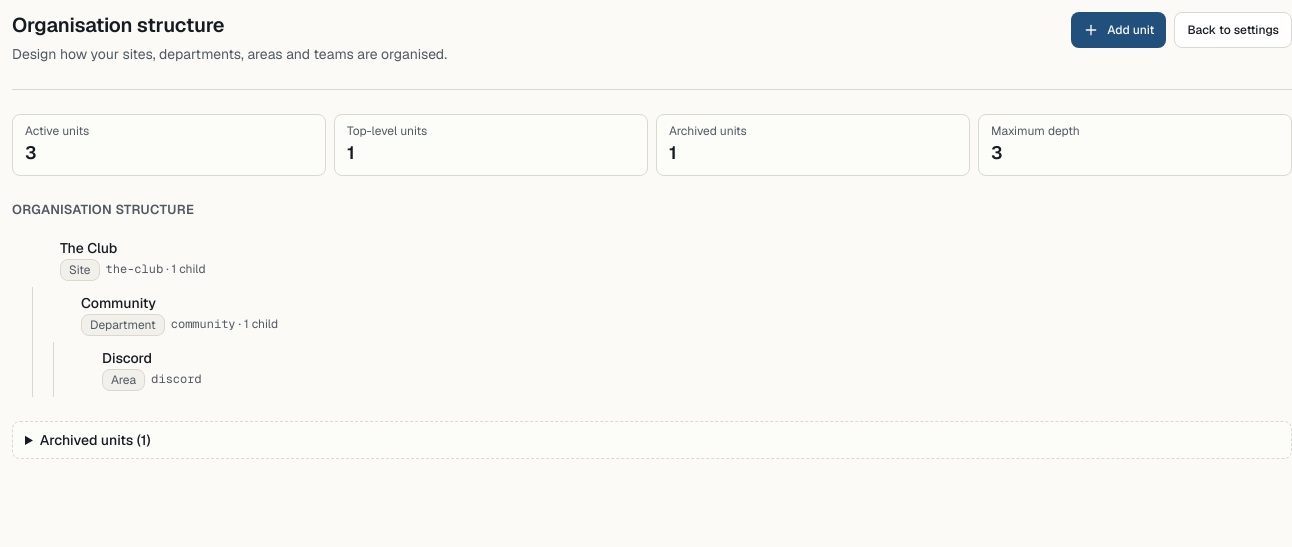
Test: StructureWorkspace › collapses archived units behind a disclosure
Click the heading with test id "archived-units-toggle".
click(95, 440)  # box [40, 430, 150, 448]
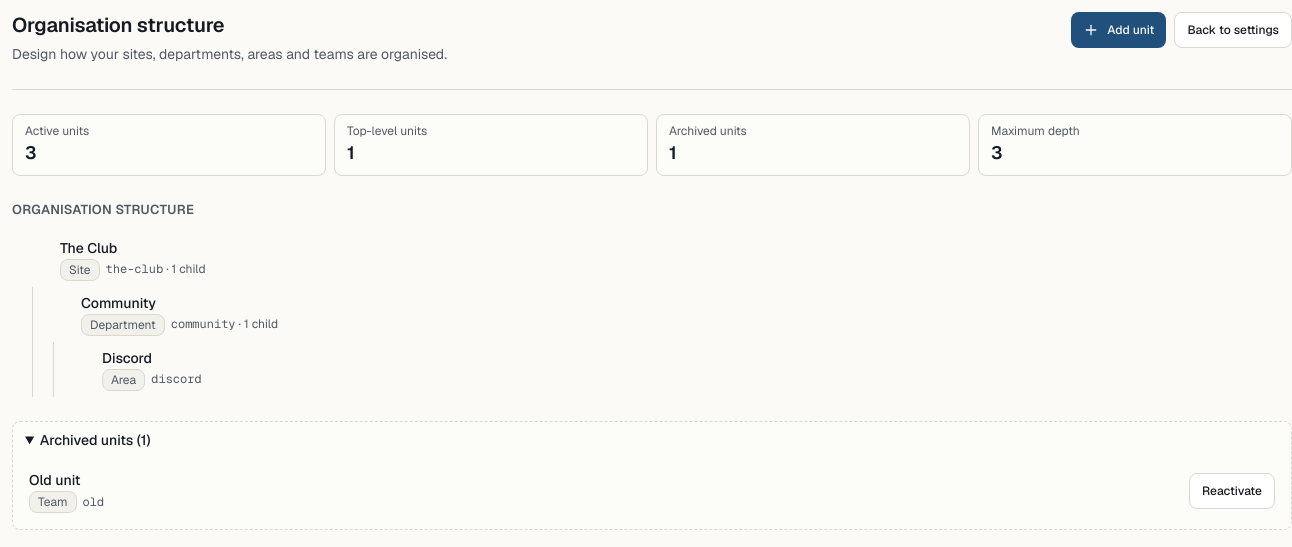
Check: the list item with test id "archived-unit-old" shows "Old unit", box [29, 470, 80, 488]
Check: the button "Reactivate" is shown, box [1189, 473, 1275, 509]
